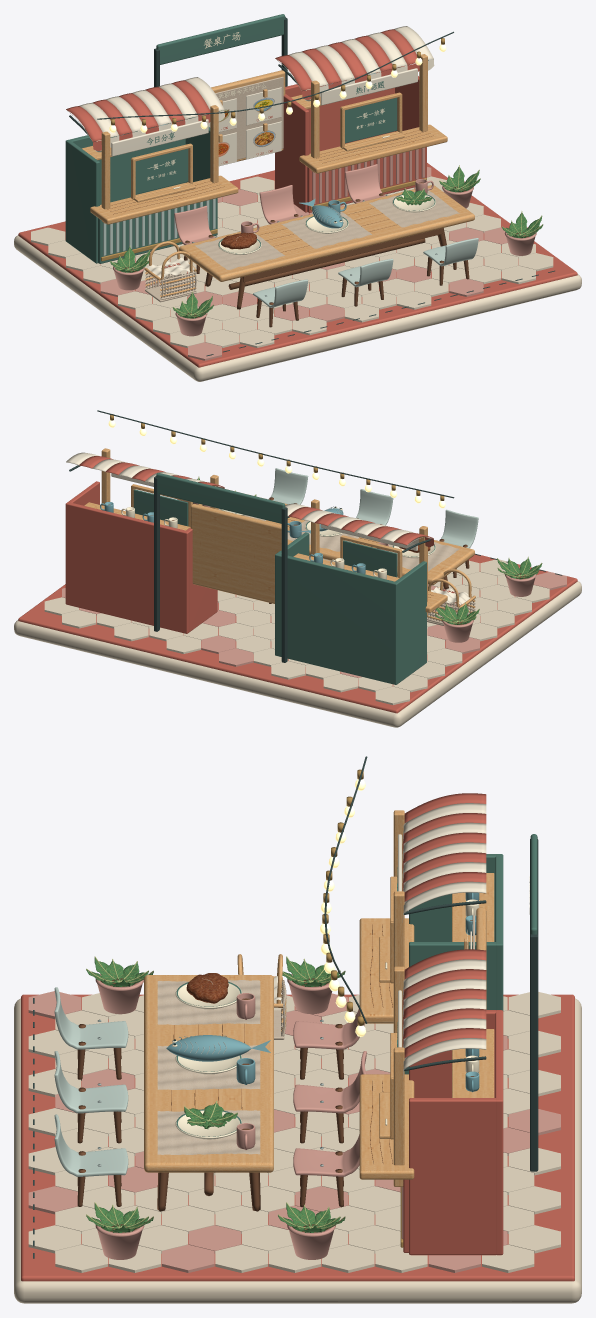
The model's file is community.glb.
3 renders of one model, top to bottom at view 1: azimuth 30°, elevation 25°; view 2: azimuth 150°, elevation 25°; view 3: azimuth 270°, elevation 25°, orthographic. The views are drawn at different scales.
Parts seen in each view (by area): view 1: Public square base, Terracotta border, Solid oak tabletop.004, Kiosk side timber, Enamel title plaque.003, Kiosk side timber.002, Counter solid wood lip, Counter solid wood lip.001, Kiosk front lower apron, Kiosk front lower apron.001, Kiosk rear inner wall, Chalkboard (+67 smaller); view 2: Kiosk rear inner wall, Kiosk rear inner wall.001, Public square base, Community shared pinboard, Terracotta border, Kiosk side timber, Enamel title plaque.003, Solid oak tabletop.004, Kiosk side timber.002, Chalkboard, Chalkboard.001, Community sign post (+33 smaller); view 3: Terracotta border, Public square base, Kiosk side timber.003, Solid oak tabletop.004, Counter solid wood lip.001, Counter solid wood lip, Woven table mat, Woven table mat.002, Woven table mat.001, Community sign post.001, Kiosk rear inner wall.001, Steam bent plywood seat.005 (+97 smaller).
Part boxes in pixels (x1,y1,x2,y2): Public square base: (14,235,581,381); Terracotta border: (18,163,577,367); Solid oak tabletop.004: (179,185,474,281); Kiosk side timber: (67,141,99,263); Enamel title plaque.003: (156,14,285,64); Kiosk side timber.002: (276,94,309,212); Counter solid wood lip: (90,175,238,224); Counter solid wood lip.001: (299,124,447,173); Kiosk front lower apron: (98,198,217,263); Kiosk front lower apron.001: (307,147,426,212); Kiosk rear inner wall: (65,120,185,242); Chalkboard: (135,148,188,194); Kiosk rear inner wall: (275,553,398,684); Kiosk rear inner wall.001: (65,502,189,633); Public square base: (14,581,581,727); Community shared pinboard: (190,504,281,603); Terracotta border: (18,554,577,713); Kiosk side timber: (395,561,426,682); Enamel title plaque.003: (156,473,285,523); Solid oak tabletop.004: (198,491,474,585); Kiosk side timber.002: (186,527,217,631); Chalkboard: (343,540,397,577); Chalkboard.001: (133,489,188,526); Community sign post: (281,507,287,662); Terracotta border: (21,994,574,1281); Public square base: (14,998,581,1303); Kiosk side timber.003: (409,1098,496,1255); Solid oak tabletop.004: (144,975,273,1172); Counter solid wood lip.001: (359,1074,414,1179); Counter solid wood lip: (359,918,414,1023); Woven table mat: (157,980,260,1024); Woven table mat.002: (157,1110,260,1154); Woven table mat.001: (157,1045,260,1089); Community sign post.001: (530,934,538,1171); Kiosk rear inner wall.001: (495,1010,503,1255); Steam bent plywood seat.005: (54,1114,128,1176).
Bounding box in the file's own units: 10 × 4.54 × 8.3.
25 materials, 7 textured.
